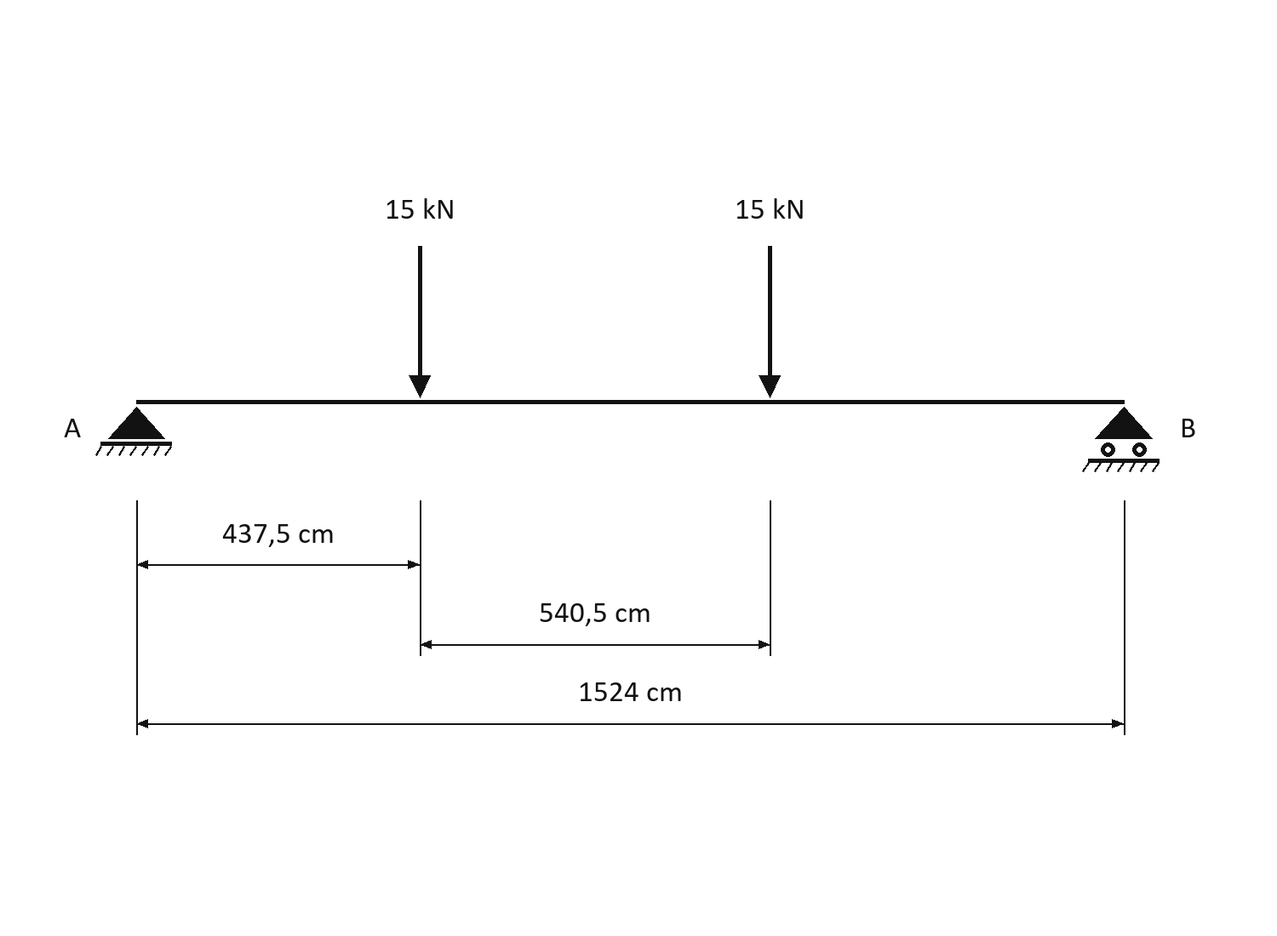pin_support: (95, 407, 172, 456)
point_load: (409, 246, 431, 398), (759, 246, 781, 398)
roller_support: (1082, 407, 1160, 472)
